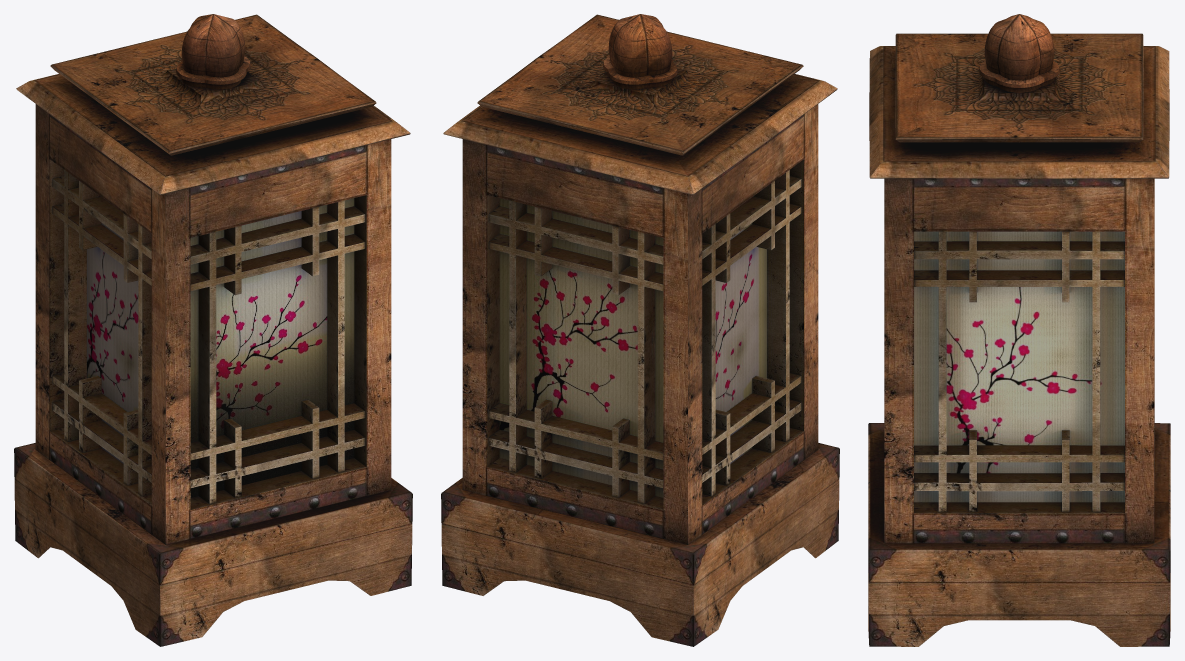
3 views of the same model, side by side, from view 1: azimuth 30°, elevation 25°; view 2: azimuth 150°, elevation 25°; view 3: azimuth 270°, elevation 25° (orthographic). The views are drawn at different scales.
Parts seen in each view (by area): view 1: Object_4; view 2: Object_4; view 3: Object_4.
Boxes of the visible parts, <box> form: Object_4: <box>14,14,412,646</box>; Object_4: <box>441,14,839,646</box>; Object_4: <box>868,14,1170,646</box>.
Bounding box in the file's own units: 0.2385 × 0.4947 × 0.2385.
Materials: 7 (7 with a texture image).
